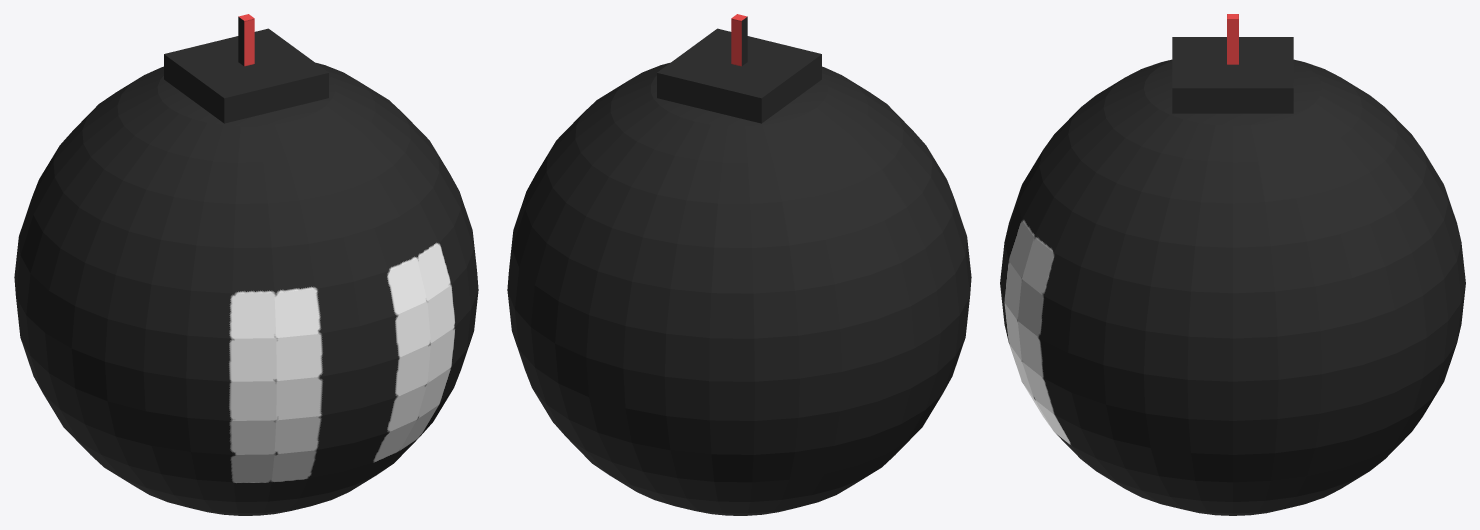
Rendered from enemy_bomb.obj.
The picture shows the model from 3 angles, left to right: view 1: azimuth 30°, elevation 25°; view 2: azimuth 150°, elevation 25°; view 3: azimuth 270°, elevation 25°; orthographic projection.
Parts seen in each view (by area): view 1: 球, 立方体, 立方体.001; view 2: 球, 立方体, 立方体.001; view 3: 球, 立方体, 立方体.001.
Part boxes in pixels (x1,y1,x2,y2): 球: [14, 62, 478, 515]; 立方体: [164, 28, 328, 123]; 立方体.001: [238, 14, 254, 66]; 球: [507, 62, 971, 515]; 立方体: [657, 28, 821, 123]; 立方体.001: [731, 14, 747, 66]; 球: [1000, 59, 1465, 515]; 立方体: [1172, 37, 1293, 113]; 立方体.001: [1227, 14, 1238, 64].
Bounding box in the file's own units: 1.94 × 2.2 × 1.94.
